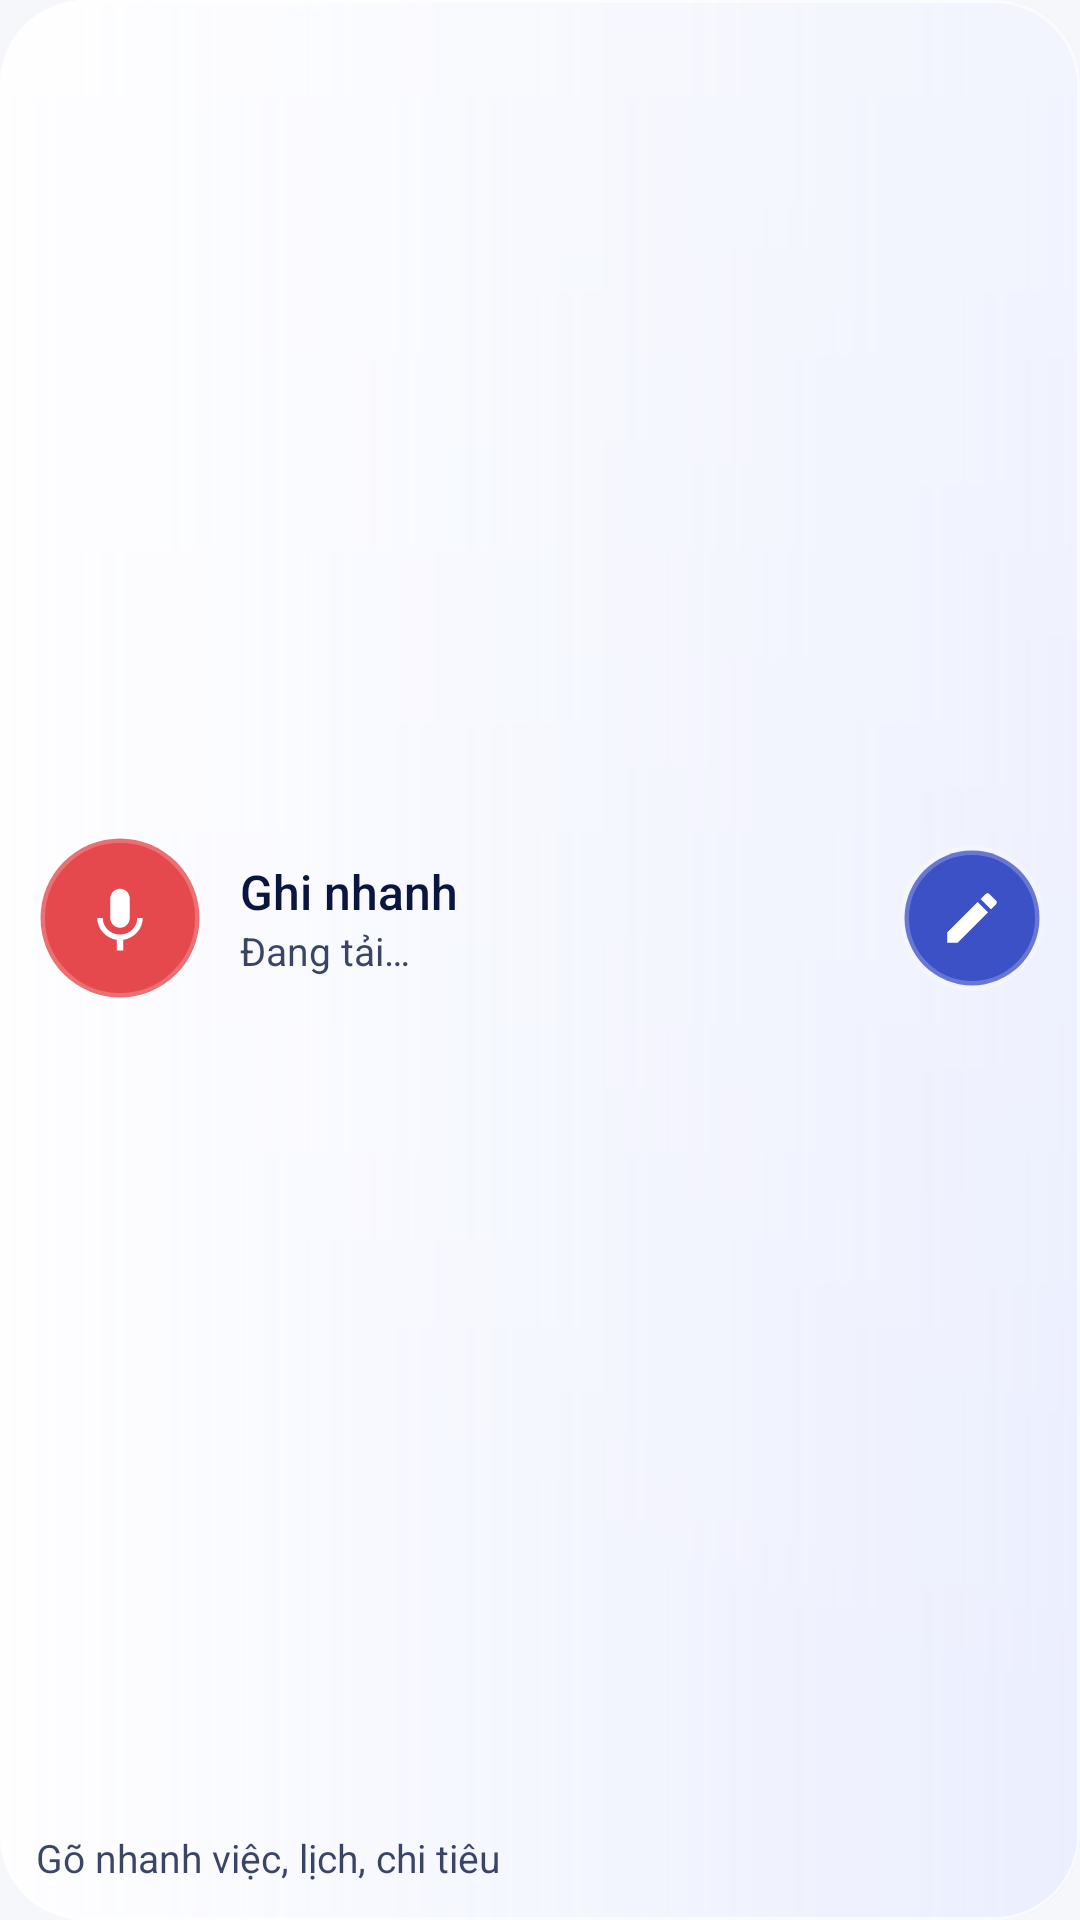

Screen size 1080×1920. Icon name, then its box in pixels as (x1, y1, x2, y2):
edit: (947, 893, 997, 943)
mic: (97, 888, 143, 951)
